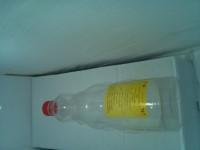bottle: (41, 74, 180, 134)
